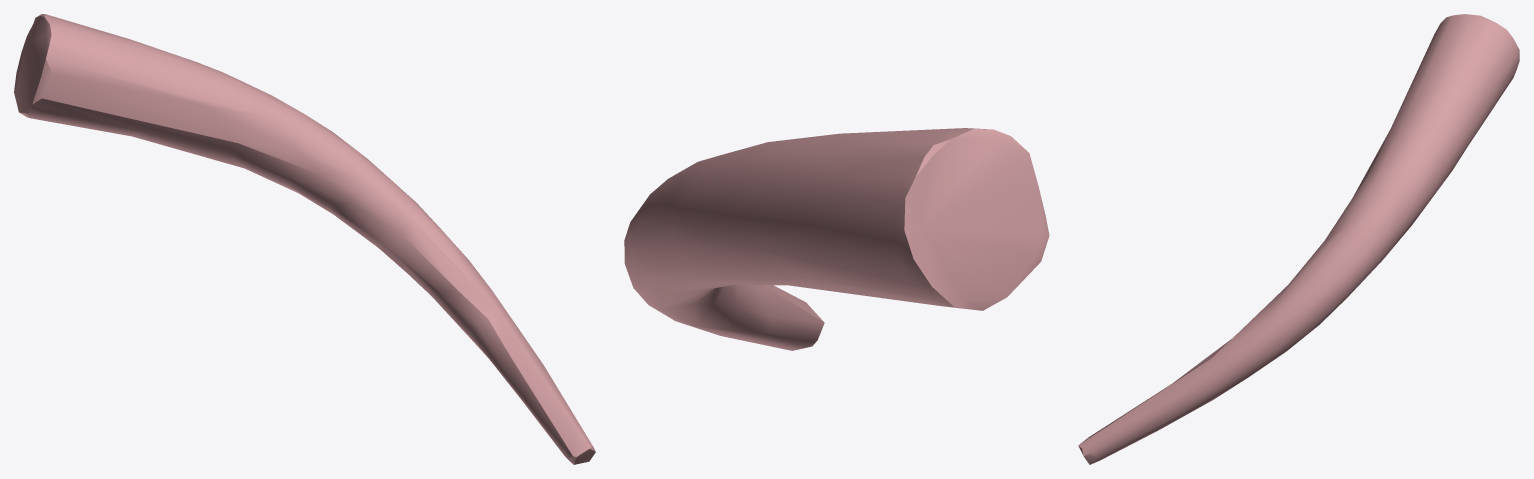
The model's file is fma68226_fj2540.glb.
3 renders of one model, left to right at view 1: azimuth 30°, elevation 25°; view 2: azimuth 150°, elevation 25°; view 3: azimuth 270°, elevation 25°, orthographic. The views are drawn at different scales.
Parts seen in each view (by area): view 1: FMA68226_FJ2540; view 2: FMA68226_FJ2540; view 3: FMA68226_FJ2540.
Part boxes in pixels (x1,y1,x2,y2): FMA68226_FJ2540: (14, 14, 595, 464); FMA68226_FJ2540: (624, 128, 1049, 350); FMA68226_FJ2540: (1078, 14, 1519, 464).
Bounding box in the file's own units: 0.035 × 0.0335 × 0.0429.
